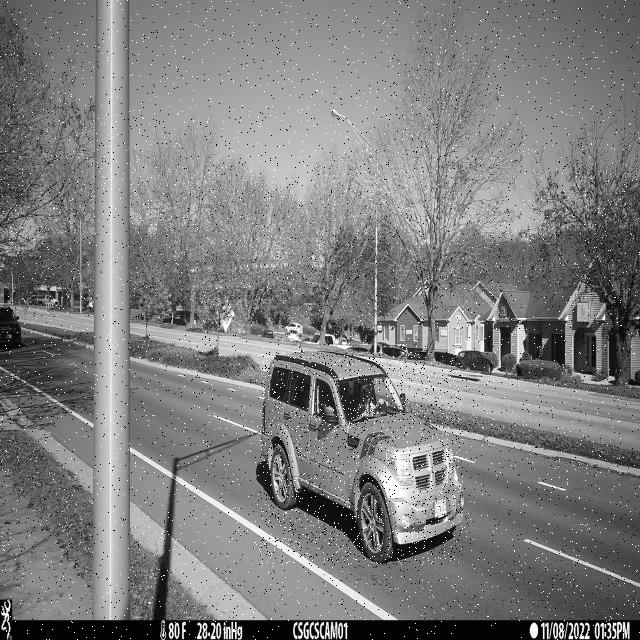SUV: (260, 352, 463, 565)
